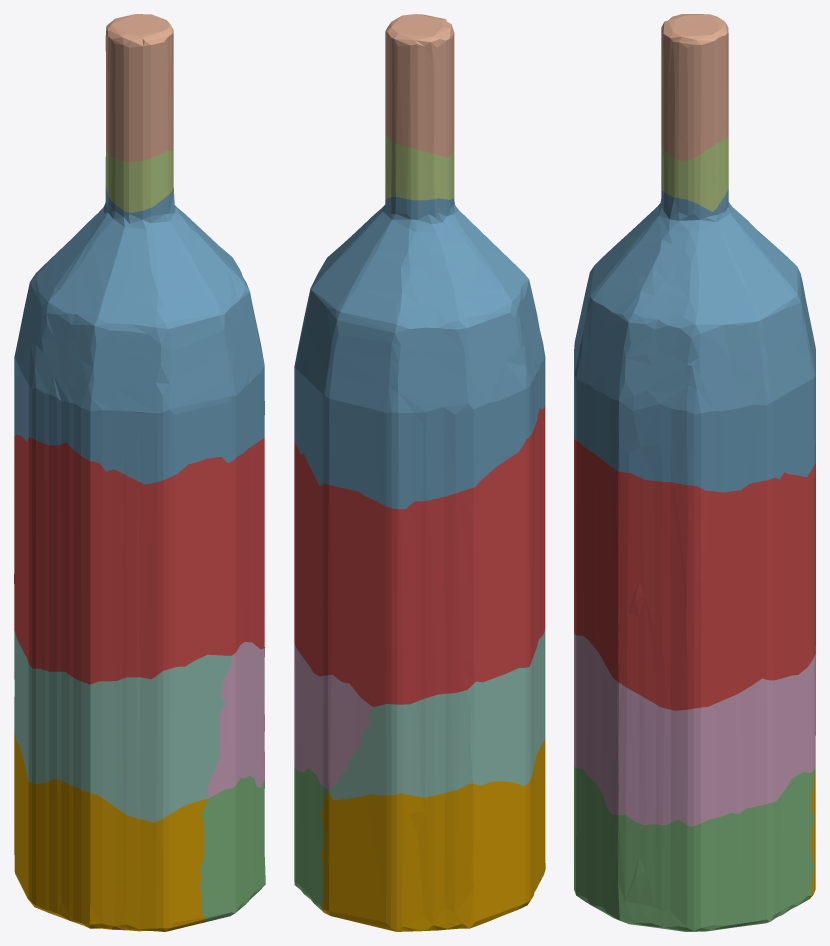
The model's file is fractured_11_8pcs.glb.
The picture shows the model from 3 angles, left to right: view 1: azimuth 30°, elevation 25°; view 2: azimuth 150°, elevation 25°; view 3: azimuth 270°, elevation 25°; orthographic projection.
Parts seen in each view (by area): view 1: piece_2.obj, piece_1.obj, piece_4.obj, piece_0.obj, piece_7.obj, piece_3.obj, piece_6.obj, piece_5.obj; view 2: piece_2.obj, piece_1.obj, piece_0.obj, piece_4.obj, piece_7.obj, piece_6.obj, piece_3.obj, piece_5.obj; view 3: piece_2.obj, piece_1.obj, piece_6.obj, piece_3.obj, piece_7.obj, piece_5.obj, piece_0.obj.
Part boxes in pixels (<box>): piece_2.obj: <box>14,186,264,484</box>; piece_1.obj: <box>14,435,264,684</box>; piece_4.obj: <box>14,631,231,822</box>; piece_0.obj: <box>14,732,207,931</box>; piece_7.obj: <box>105,14,173,162</box>; piece_3.obj: <box>199,776,265,922</box>; piece_6.obj: <box>208,642,264,798</box>; piece_5.obj: <box>105,144,173,212</box>; piece_2.obj: <box>294,197,545,509</box>; piece_1.obj: <box>294,406,545,706</box>; piece_0.obj: <box>321,738,545,931</box>; piece_4.obj: <box>327,629,545,800</box>; piece_7.obj: <box>385,14,454,157</box>; piece_6.obj: <box>294,642,372,789</box>; piece_3.obj: <box>294,766,326,910</box>; piece_5.obj: <box>385,135,454,200</box>; piece_2.obj: <box>574,189,815,492</box>; piece_1.obj: <box>574,439,815,710</box>; piece_6.obj: <box>574,634,815,826</box>; piece_3.obj: <box>574,766,814,931</box>; piece_7.obj: <box>661,14,728,160</box>; piece_5.obj: <box>661,136,728,211</box>; piece_0.obj: <box>808,732,815,899</box>.
Bounding box in the file's own units: 0.2657 × 1 × 0.2556.
